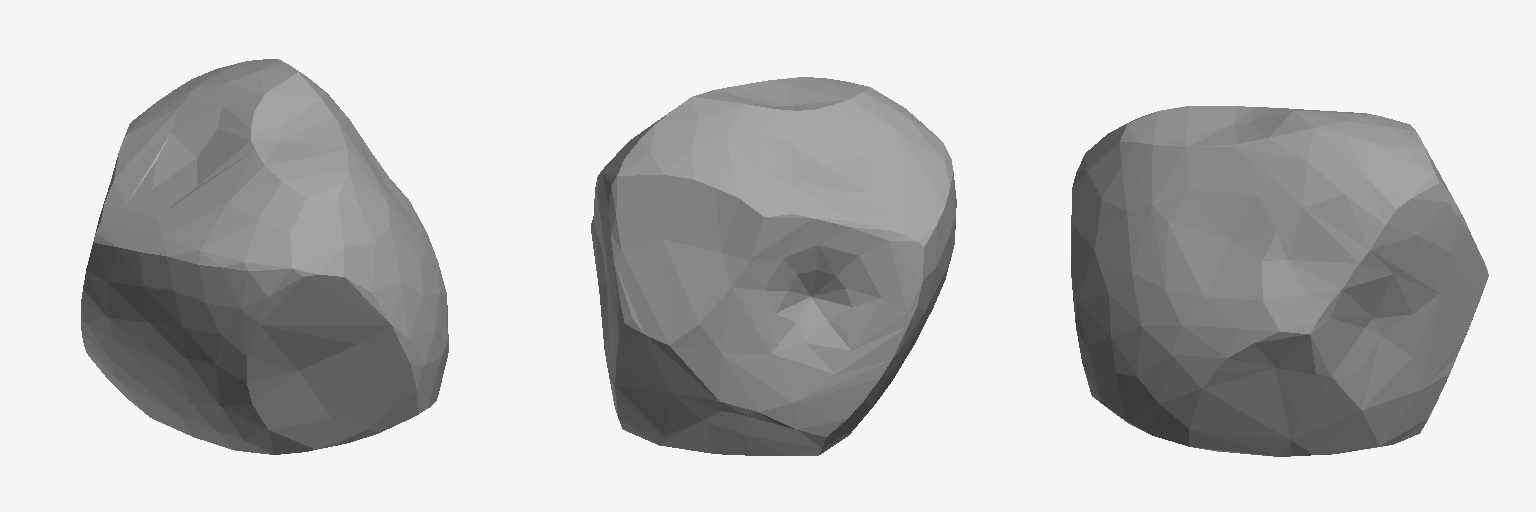
The picture shows the model from 3 angles: view 1: azimuth 30°, elevation 25°; view 2: azimuth 150°, elevation 25°; view 3: azimuth 270°, elevation 25°; orthographic projection.
Visible parts, largest first — view 1: Cube; view 2: Cube; view 3: Cube.
Boxes of the visible parts, x1,y1,x2,y2 form: Cube: [81, 59, 448, 454]; Cube: [591, 77, 956, 455]; Cube: [1071, 106, 1488, 456].
Bounding box in the file's own units: 1.75 × 1.62 × 1.96.
1 materials, 1 textured.